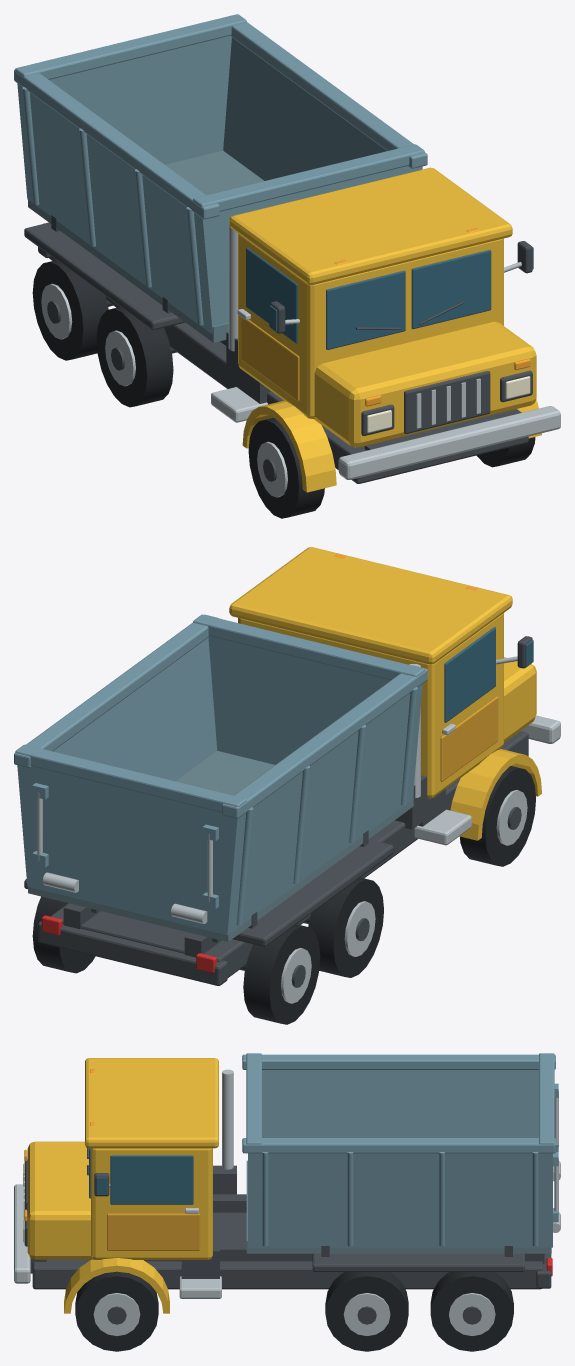
The model's file is dump_truck.glb.
The picture shows the model from 3 angles, top to bottom: view 1: azimuth 30°, elevation 25°; view 2: azimuth 150°, elevation 25°; view 3: azimuth 270°, elevation 25°; orthographic projection. The views are drawn at different scales.
Parts seen in each view (by area): view 1: Cab roof, Dump bed left wall, Dump bed closed tailgate, Yellow hood, Dump bed right wall, Yellow truck cab, Truck front bumper, Dump bed side top rail, Truck windshield pane.001, Truck windshield pane, Dump bed front bulkhead, Dump bed side top rail.001 (+24 smaller); view 2: Dump bed closed tailgate, Cab roof, Dump bed left wall, Dump bed front bulkhead, Dump bed right wall, Yellow truck cab, Dump bed thick floor, Dump truck main chassis, Dump bed side top rail, Dump bed side top rail.001, Dump truck left wheel 3 tire, Rear tandem mudguard (+22 smaller); view 3: Dump bed right wall, Dump bed left wall, Cab roof, Dump truck main chassis, Yellow hood, Yellow truck cab, Dump bed side top rail.001, Dump bed side top rail, Truck side cab window.001, Dump truck right wheel 2 tire, Dump truck right wheel 3 tire, Rear tandem mudguard.001 (+22 smaller).
Boxes of the visible parts, x1,y1,x2,y2 form: Cab roof: [229, 167, 512, 285]; Dump bed left wall: [22, 91, 205, 328]; Dump bed closed tailgate: [17, 35, 231, 203]; Yellow hood: [314, 321, 536, 447]; Dump bed right wall: [223, 37, 386, 180]; Yellow truck cab: [238, 233, 503, 418]; Truck front bumper: [338, 406, 560, 479]; Dump bed side top rail: [14, 69, 219, 219]; Truck windshield pane.001: [411, 249, 491, 329]; Truck windshield pane: [326, 270, 405, 349]; Dump bed front bulkhead: [195, 166, 422, 334]; Dump bed side top rail.001: [231, 22, 427, 168]; Dump bed closed tailgate: [17, 765, 244, 935]; Cab roof: [229, 547, 512, 664]; Dump bed left wall: [232, 686, 419, 931]; Dump bed front bulkhead: [208, 636, 422, 801]; Dump bed right wall: [53, 637, 217, 781]; Yellow truck cab: [238, 613, 503, 798]; Dump bed thick floor: [28, 751, 413, 941]; Dump truck main chassis: [50, 731, 528, 977]; Dump bed side top rail: [222, 665, 427, 818]; Dump bed side top rail.001: [14, 614, 218, 767]; Dump truck left wheel 3 tire: [243, 924, 320, 1024]; Rear tandem mudguard: [232, 839, 393, 946]; Dump bed right wall: [252, 1153, 546, 1247]; Dump bed left wall: [262, 1070, 538, 1137]; Cab roof: [85, 1058, 218, 1148]; Dump truck main chassis: [32, 1212, 542, 1289]; Yellow hood: [27, 1141, 93, 1259]; Yellow truck cab: [91, 1148, 212, 1259]; Dump bed side top rail.001: [242, 1138, 555, 1153]; Dump bed side top rail: [242, 1054, 555, 1069]; Truck side cab window.001: [110, 1155, 193, 1204]; Dump truck right wheel 2 tire: [325, 1272, 408, 1351]; Dump truck right wheel 3 tire: [430, 1272, 513, 1351]; Rear tandem mudguard.001: [312, 1253, 524, 1271].
Bounding box in the file's own units: 2.94 × 2.74 × 6.56.
